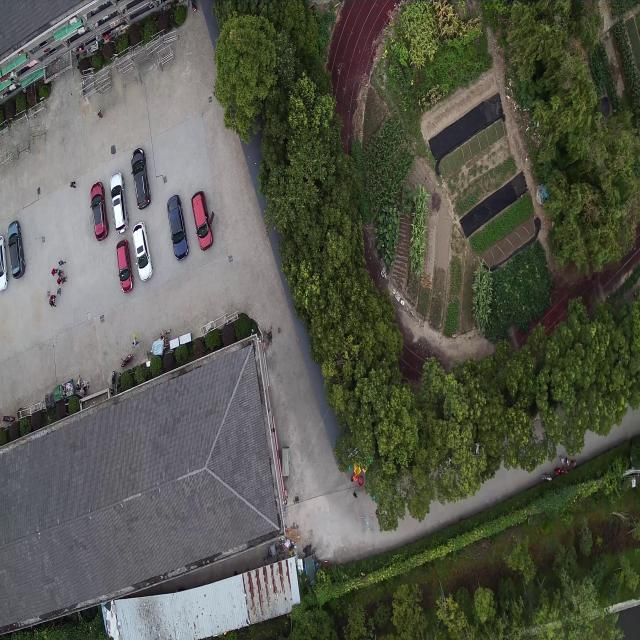UAV: (359, 512, 375, 534)
